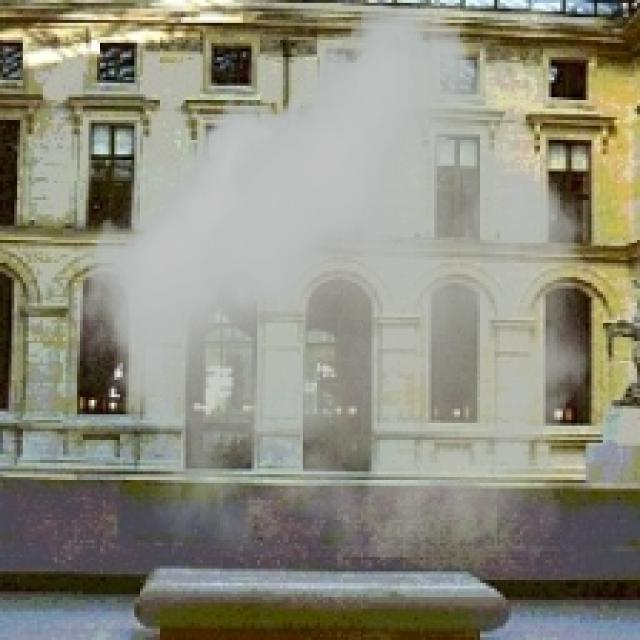smoke: (77, 3, 592, 557)
